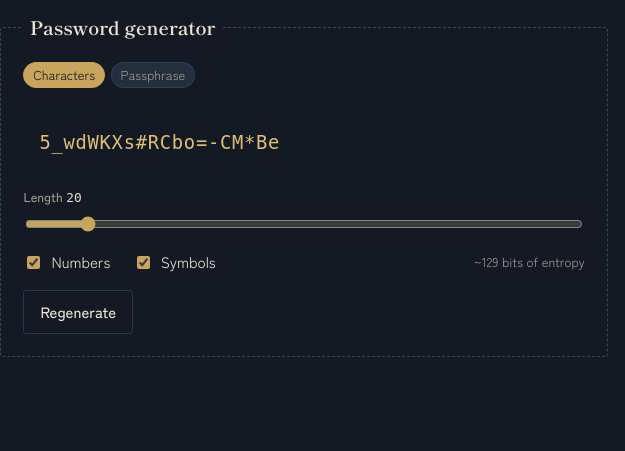
Test: PasswordGenerator › switches to a six-word passphrase from the EFF list
What coordinates should you click on to do the following:
click the button "Passphrase"
I would click on:
 (153, 75)
Its box is [111,62,195,88].
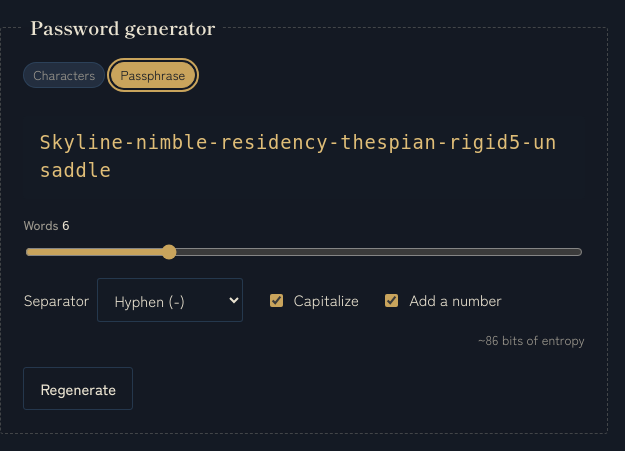
Expected: the field labelled "Length" is gone
Expected: the text "~86 bits of entropy" is shown, [478,330,585,351]
